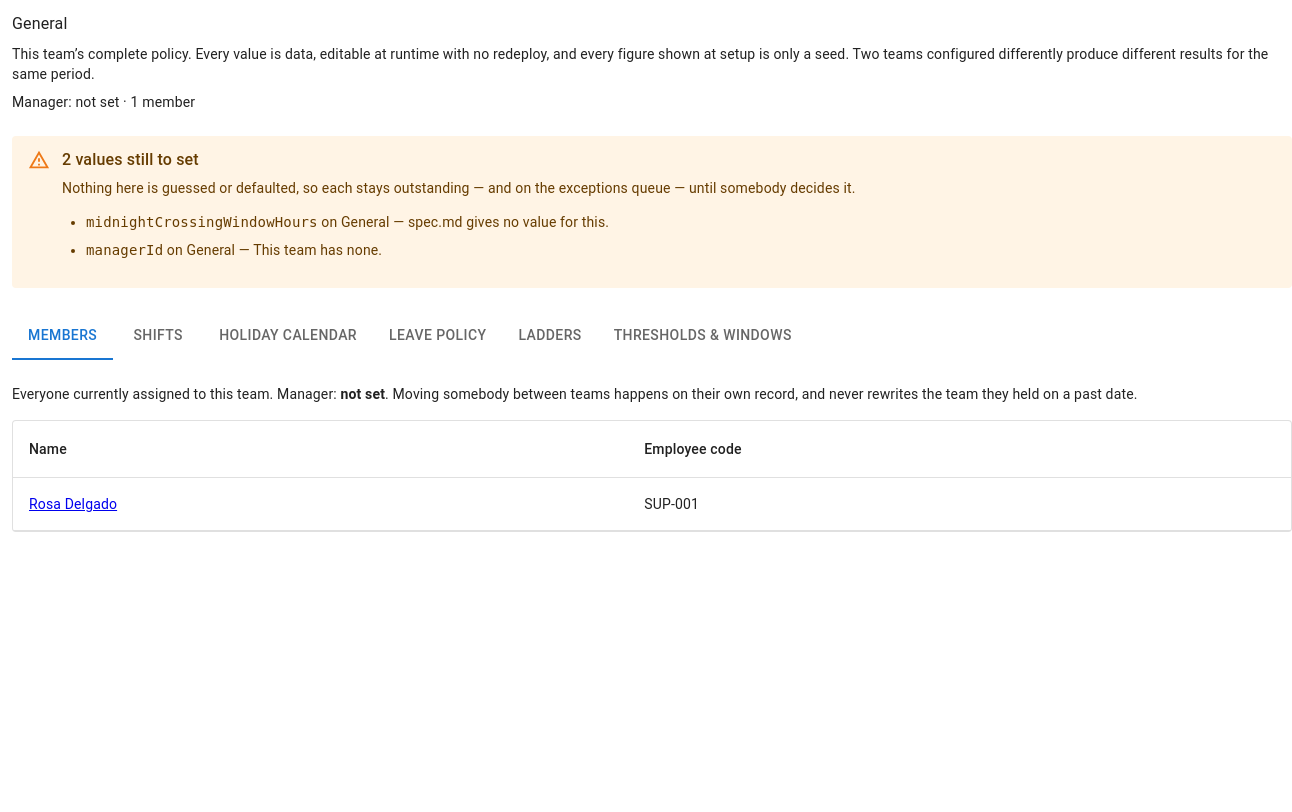
TeamConfiguration › shows a holiday with its written type, never colour alone
Click the tab "Holiday calendar".
click(288, 336)  # box [203,312,373,360]
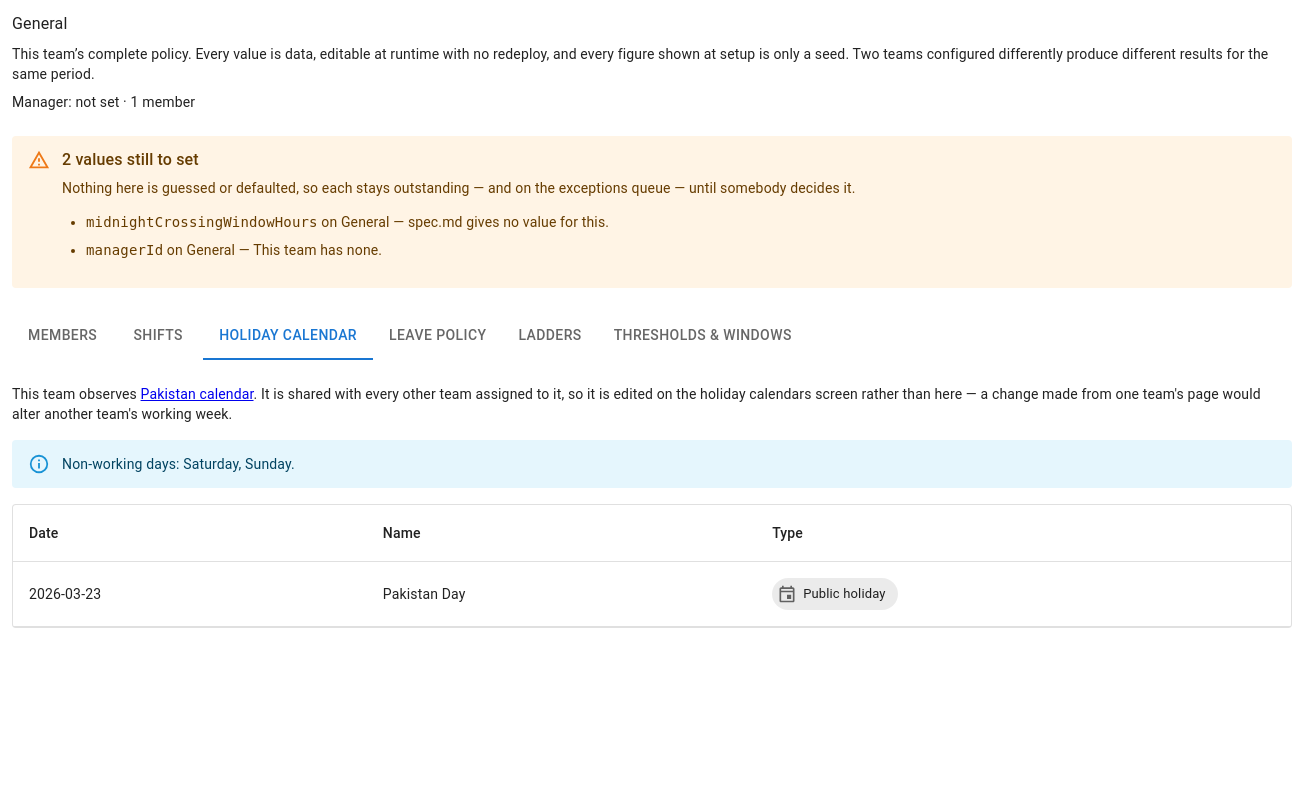
expect the text "2026-03-23" is shown: met, box [29,586,101,602]
expect the text "Pakistan Day" is shown: met, box [367,561,756,626]
expect the text "Public holiday" is shown: met, box [803,586,886,601]
